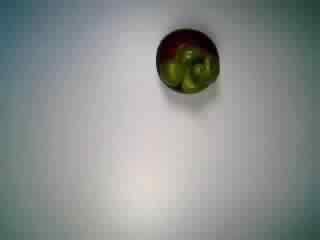mangosteen: (142, 25, 227, 101)
